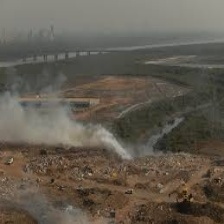smoke: (1, 87, 144, 163)
